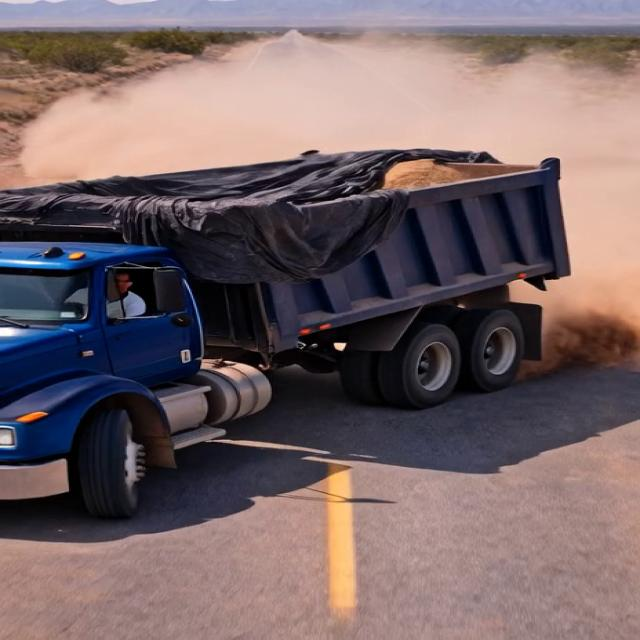trailer: (6, 146, 574, 222)
truck: (2, 113, 583, 523)
